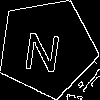N: (22, 23, 65, 73)
